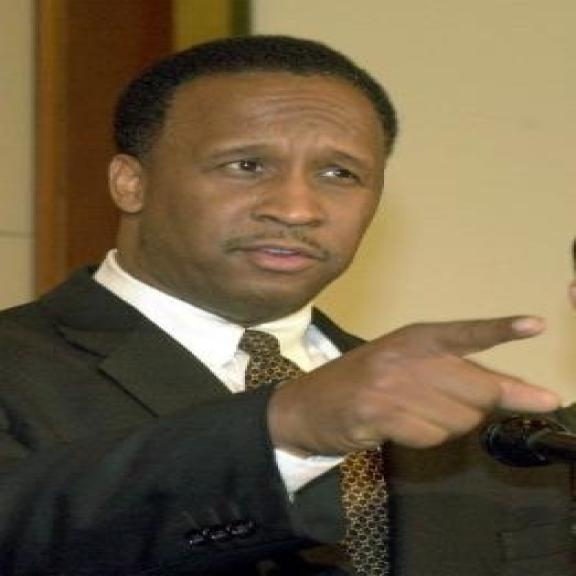face: (109, 56, 395, 318)
